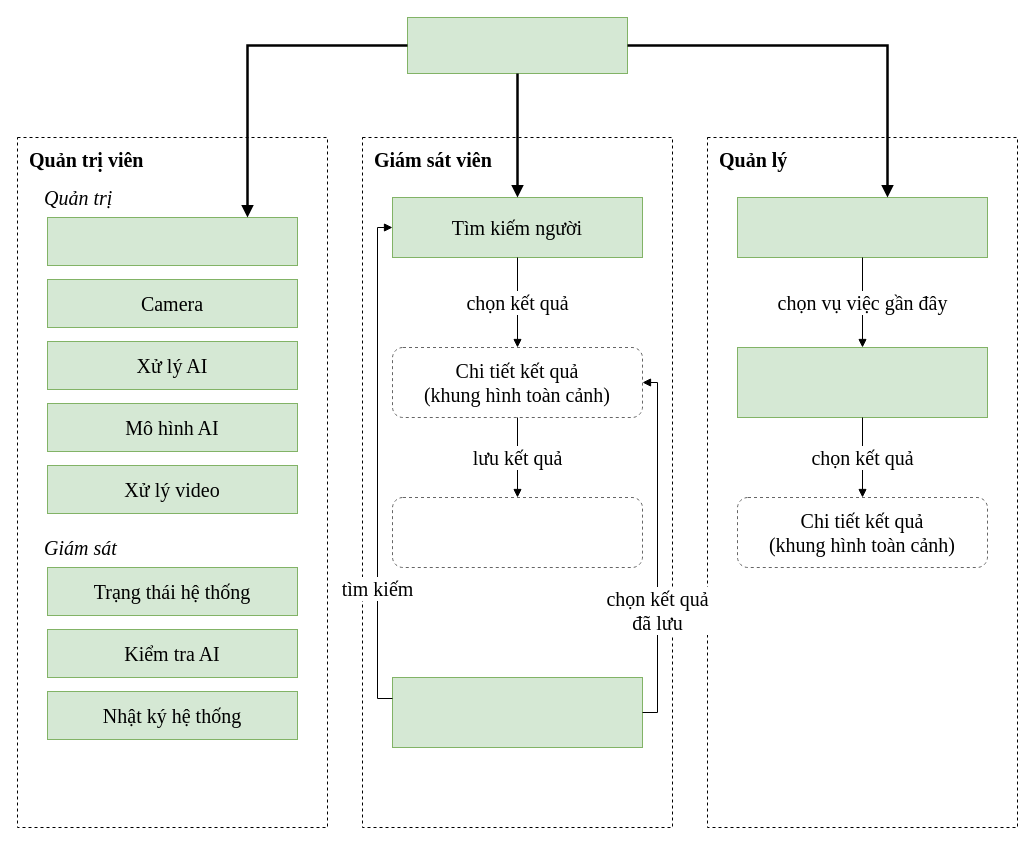
This 1035x845 diagram has some shape labels left out. Here are the shapes that lost their labels. From the top down, the centre of each, then its label:
point 517,45: Đăng nhập
point 172,241: Tài khoản
point 862,227: Tổng quan
point 862,382: Hồ sơ vụ việc (danh sách + chi tiết)
point 517,532: Tạo vụ việc mới / Thêm vào vụ việc đã có
point 517,712: Vụ việc của tôi (danh sách + chi tiết)
